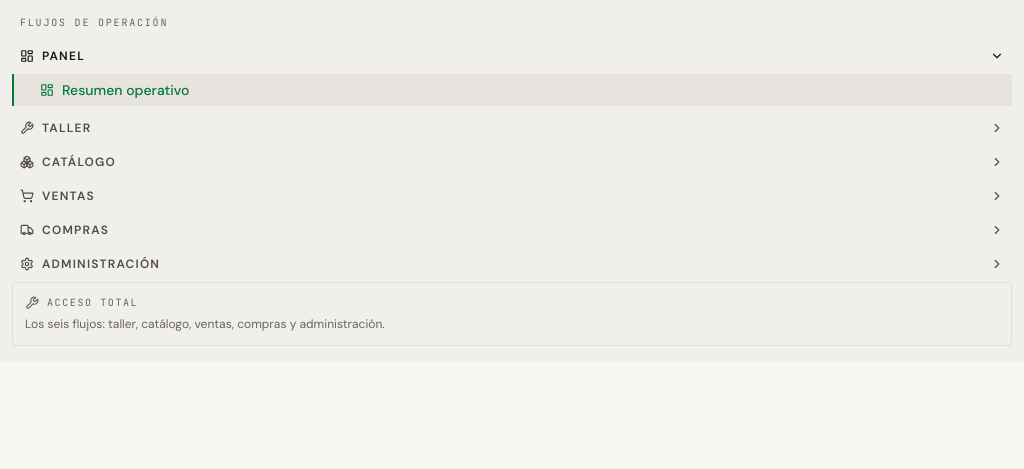
Test case: AppSidebar Compras flow › keeps the Compras flow reachable for an administrator
Click the button with test id "sidebar.flow_toggle.compras" at (76, 230), box [12, 214, 1012, 246]
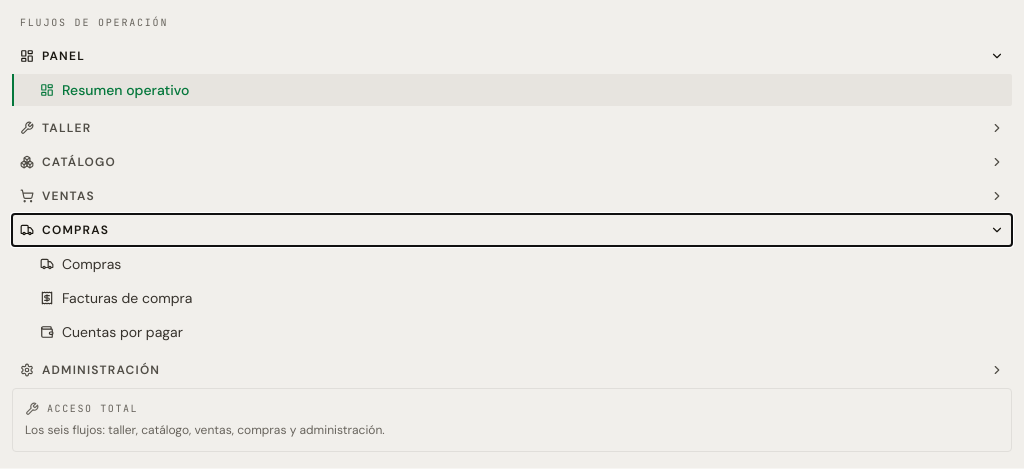
Check: the button with test id "sidebar.flow_toggle.compras" is expanded, box [12, 214, 1012, 246]
